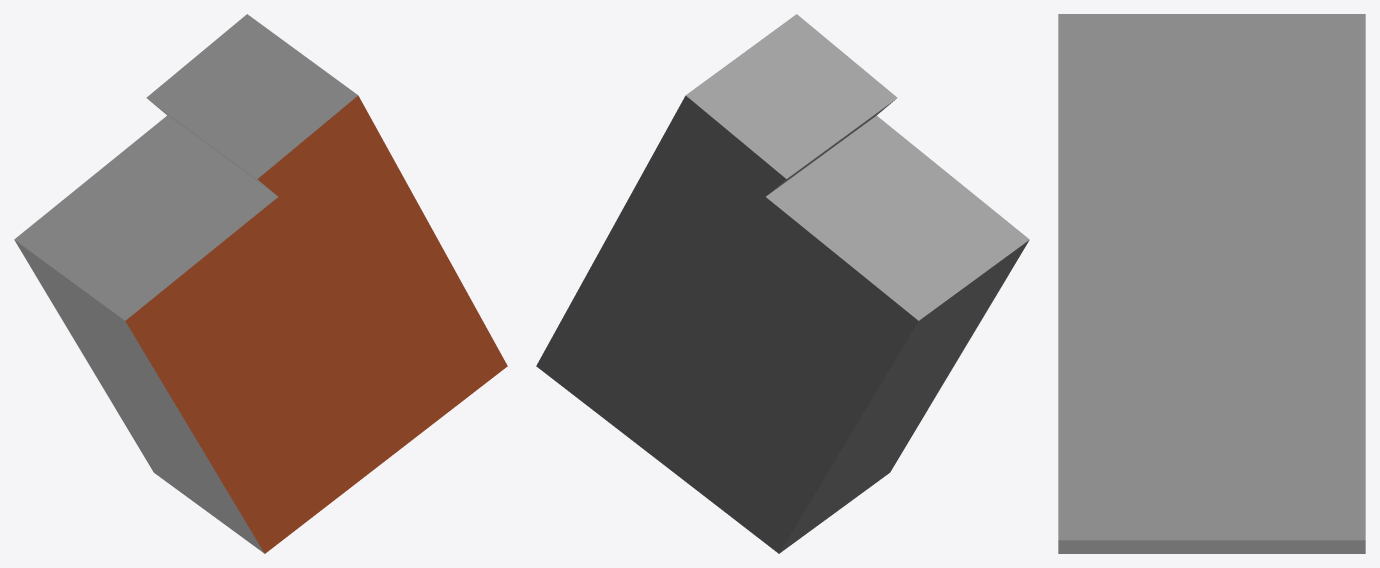
Rendered from construction_2408_assumed_A_Casa_h6m.obj.
3 views of the same model, side by side, from view 1: azimuth 30°, elevation 25°; view 2: azimuth 150°, elevation 25°; view 3: azimuth 270°, elevation 25° (orthographic). The views are drawn at different scales.
Parts seen in each view (by area): view 1: construction_2408_assumed_A_Casa; view 2: construction_2408_assumed_A_Casa; view 3: construction_2408_assumed_A_Casa.
Boxes of the visible parts, x1,y1,x2,y2 form: construction_2408_assumed_A_Casa: (14,14,507,553); construction_2408_assumed_A_Casa: (536,14,1029,553); construction_2408_assumed_A_Casa: (1058,14,1365,553).
Bounding box in the file's own units: 11.93 × 12.98 × 6.
